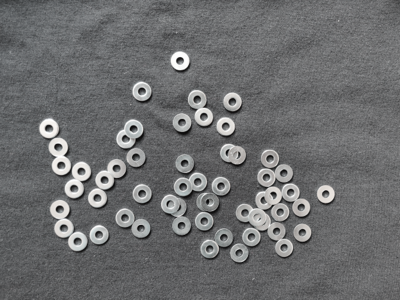circle: (47, 200, 72, 223), (51, 220, 75, 242), (49, 155, 73, 177), (273, 239, 295, 262), (68, 232, 91, 254), (90, 225, 112, 247), (39, 118, 60, 141), (46, 138, 70, 158), (228, 242, 249, 264), (65, 179, 86, 201), (72, 162, 93, 183), (216, 116, 237, 137), (292, 223, 314, 243), (86, 189, 108, 209), (124, 149, 146, 169), (171, 113, 191, 135), (187, 90, 209, 110), (131, 219, 152, 239), (196, 193, 216, 214), (115, 129, 136, 149), (176, 152, 195, 174), (124, 120, 146, 139), (201, 239, 221, 259), (214, 229, 234, 249), (260, 149, 280, 169), (132, 82, 152, 102), (195, 108, 215, 128), (171, 52, 191, 72), (267, 222, 288, 241), (172, 217, 193, 236), (108, 159, 127, 180), (275, 163, 294, 184), (195, 212, 215, 231), (116, 208, 135, 228), (95, 171, 115, 190), (160, 196, 180, 215), (292, 199, 312, 218), (281, 184, 301, 203), (316, 186, 335, 206), (220, 142, 238, 163), (223, 94, 244, 112), (253, 213, 272, 232), (134, 185, 153, 204), (174, 179, 193, 198), (202, 193, 221, 212), (212, 178, 231, 197), (189, 173, 208, 192), (167, 199, 187, 217), (255, 191, 273, 211), (272, 203, 290, 223), (243, 229, 261, 248), (236, 204, 254, 223), (229, 147, 247, 165), (257, 170, 276, 187), (249, 209, 266, 227), (265, 187, 282, 205)
